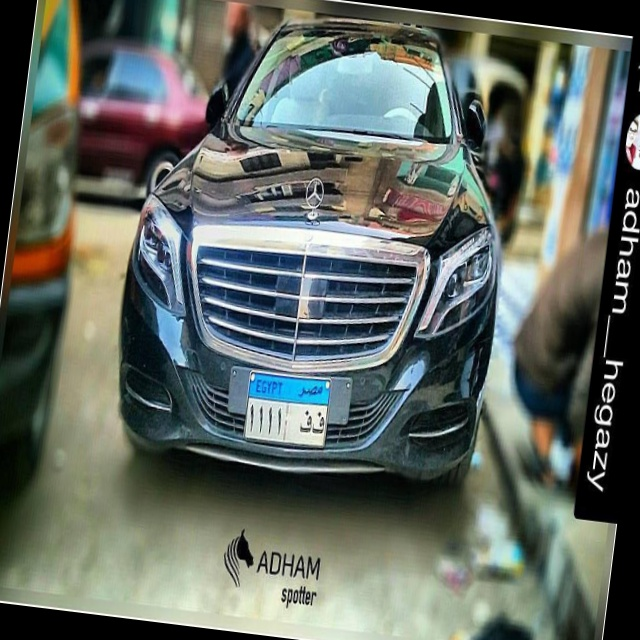License Plate: (239, 364, 335, 455)
